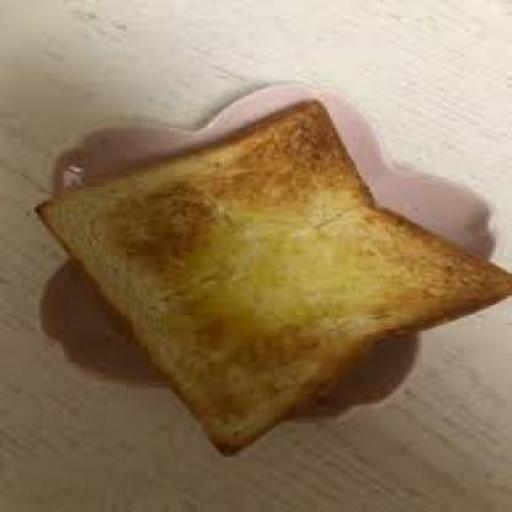biodegradable: (28, 98, 510, 453)
